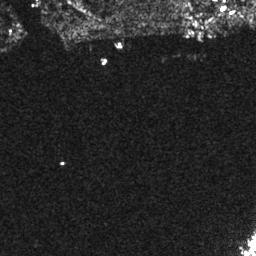ship: (113, 41, 125, 50), (100, 57, 109, 67)
